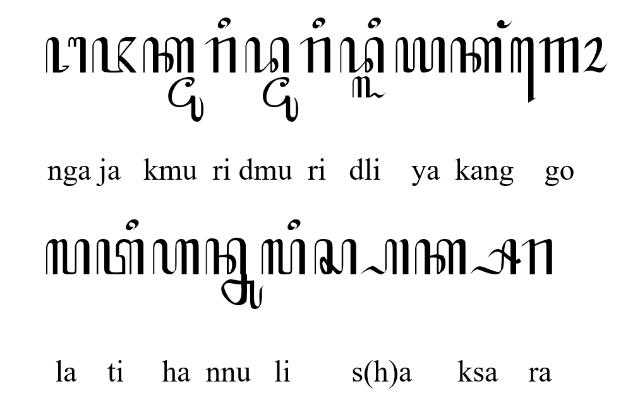_h: (359, 238, 408, 276)
_l: (352, 77, 388, 99)
_mu: (167, 76, 205, 122), (263, 77, 299, 123)
_s: (470, 238, 522, 276)
d: (338, 36, 384, 74), (244, 36, 288, 74)
e1: (510, 36, 536, 104)
g: (538, 36, 578, 74)
h: (151, 238, 199, 276)
i: (311, 17, 325, 29), (286, 219, 300, 231), (125, 219, 138, 231), (218, 17, 230, 29), (368, 16, 380, 28)
j: (93, 36, 137, 74)
k: (414, 238, 466, 276), (142, 37, 194, 73), (450, 37, 502, 73)
l: (44, 240, 90, 276), (260, 240, 306, 276)
ng: (497, 20, 513, 28)
nga: (46, 36, 86, 74)
nnu: (204, 239, 264, 309)
o: (582, 36, 608, 74)
r: (204, 36, 236, 74), (299, 36, 331, 74), (522, 239, 552, 275)
s: (314, 238, 356, 276)
t: (96, 238, 146, 276)
y: (394, 37, 446, 73)
